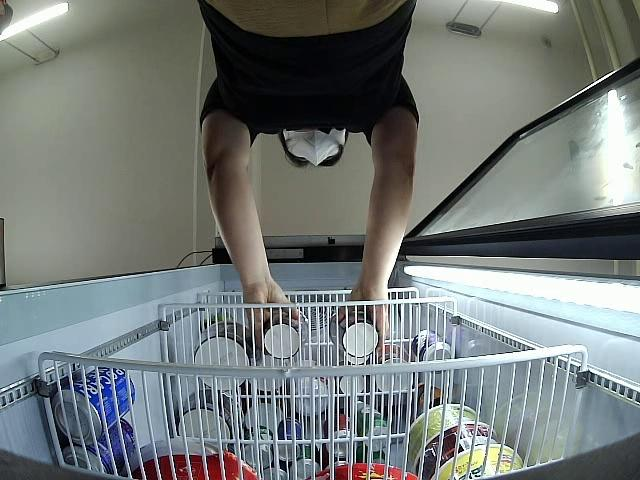00_hand: (244, 280, 304, 349), (332, 286, 391, 341)
08_buldak_S: (263, 308, 312, 359), (326, 308, 377, 357)
